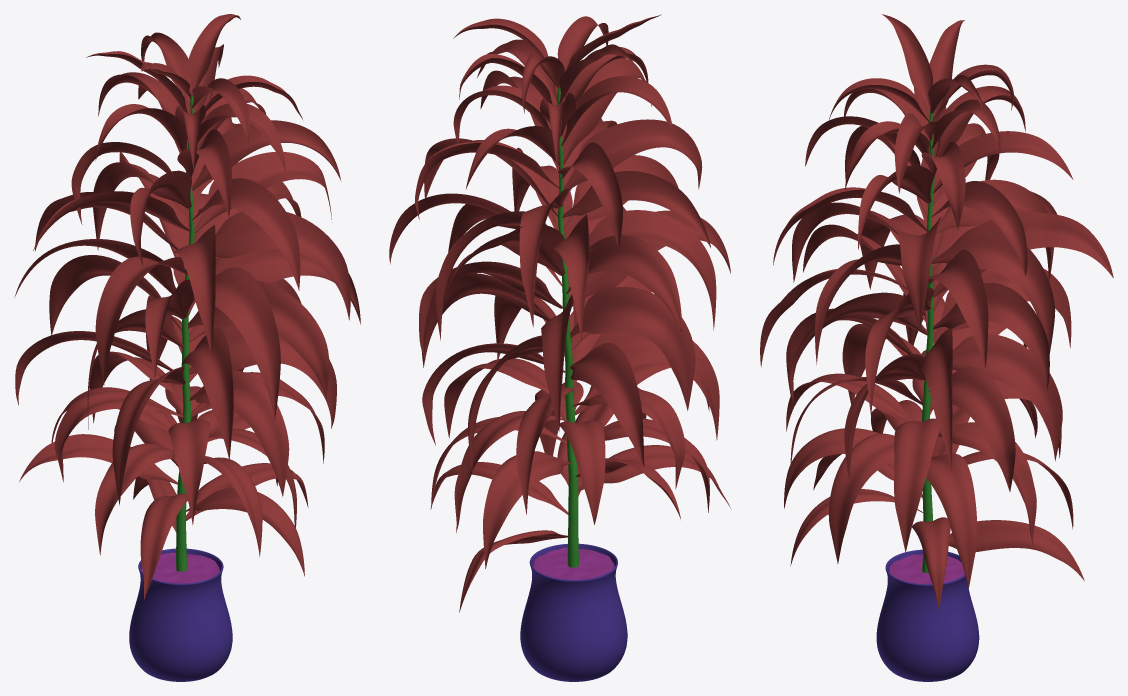
Rendered from plant.fbx.
The picture shows the model from 3 angles, left to right: view 1: azimuth 30°, elevation 25°; view 2: azimuth 150°, elevation 25°; view 3: azimuth 270°, elevation 25°; orthographic projection. The views are drawn at different scales.
Parts seen in each view (by area): view 1: plant, Cylinder001, Cylinder002; view 2: plant, Cylinder001, Cylinder002; view 3: plant, Cylinder001, Cylinder002.
Boxes of the visible parts, bbox=[...] form: plant: bbox=[14, 14, 360, 600]; Cylinder001: bbox=[129, 548, 232, 681]; Cylinder002: bbox=[141, 552, 219, 583]; plant: bbox=[389, 14, 731, 612]; Cylinder001: bbox=[520, 543, 627, 681]; Cylinder002: bbox=[533, 547, 614, 579]; plant: bbox=[760, 14, 1113, 609]; Cylinder001: bbox=[876, 549, 979, 681]; Cylinder002: bbox=[889, 554, 964, 584].
Size of the model in its own units: 616 by 1267 by 652.
